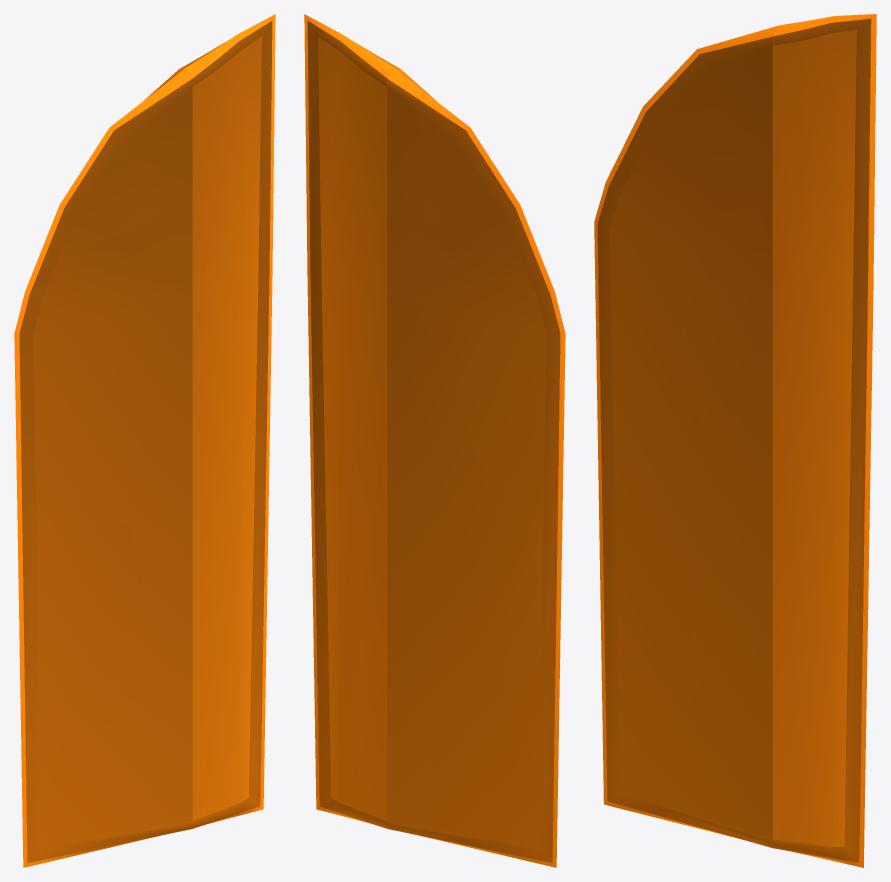
The model's file is bronze_blade (9).glb.
The picture shows the model from 3 angles, left to right: view 1: azimuth 30°, elevation 25°; view 2: azimuth 150°, elevation 25°; view 3: azimuth 330°, elevation 25°; orthographic projection. The views are drawn at different scales.
Visible parts, largest first — view 1: bronze_blade_steel.034; view 2: bronze_blade_steel.034; view 3: bronze_blade_steel.034.
Boxes of the visible parts, box(x1,y1,x2,y2) form: bronze_blade_steel.034: box(14, 14, 275, 867); bronze_blade_steel.034: box(304, 14, 565, 867); bronze_blade_steel.034: box(594, 14, 876, 867).
Bounding box in the file's own units: 4.15 × 12.06 × 0.3631.
1 material, 1 textured.
